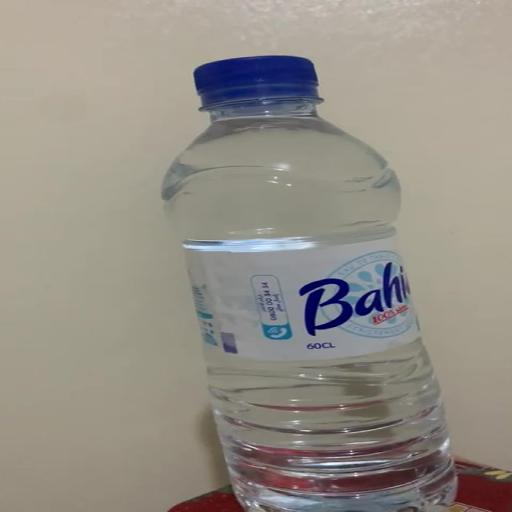bouteille conformite: (147, 37, 512, 512)
